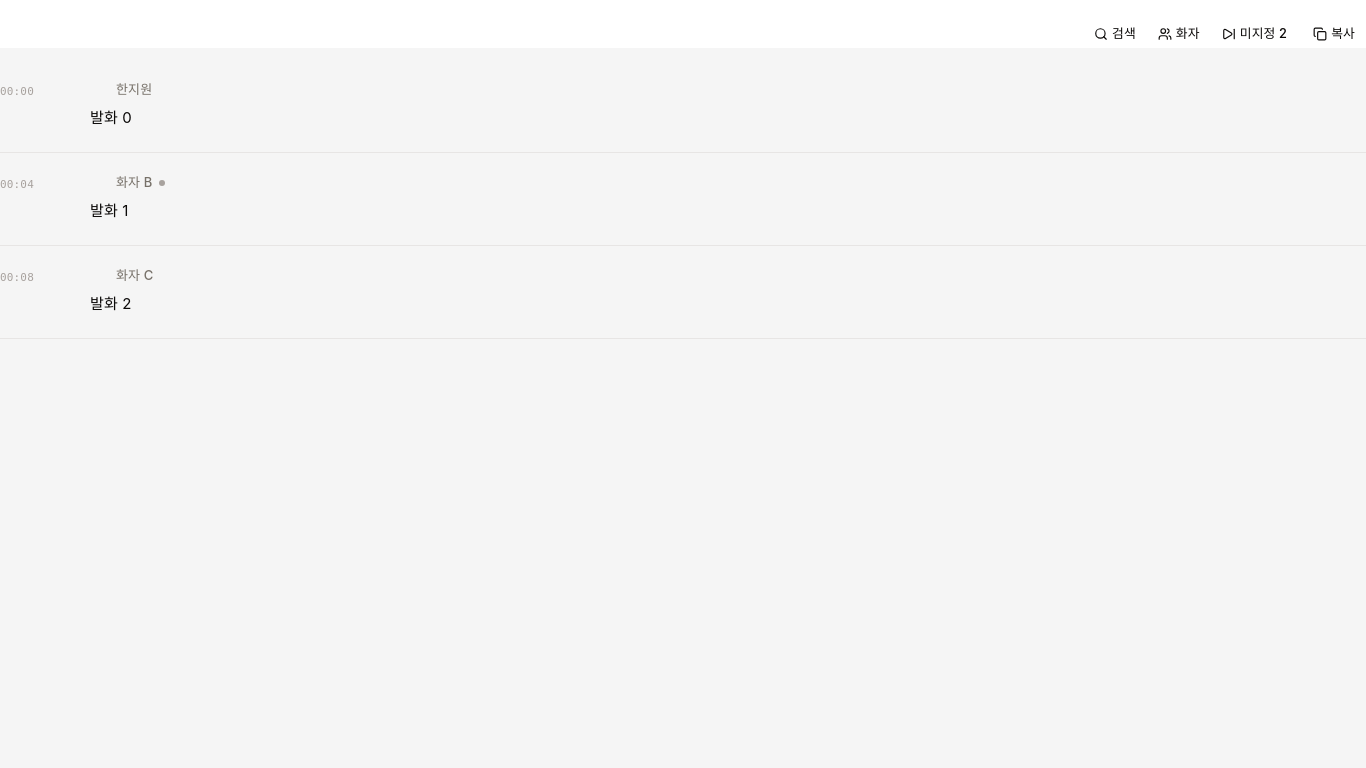
Test: NoteArchive › 한 마디도 안 한 참여자도 패널에 선다
This screenshot has width=1366, height=768.
Click the button "화자": click(1181, 34) [1151,20,1211,48]
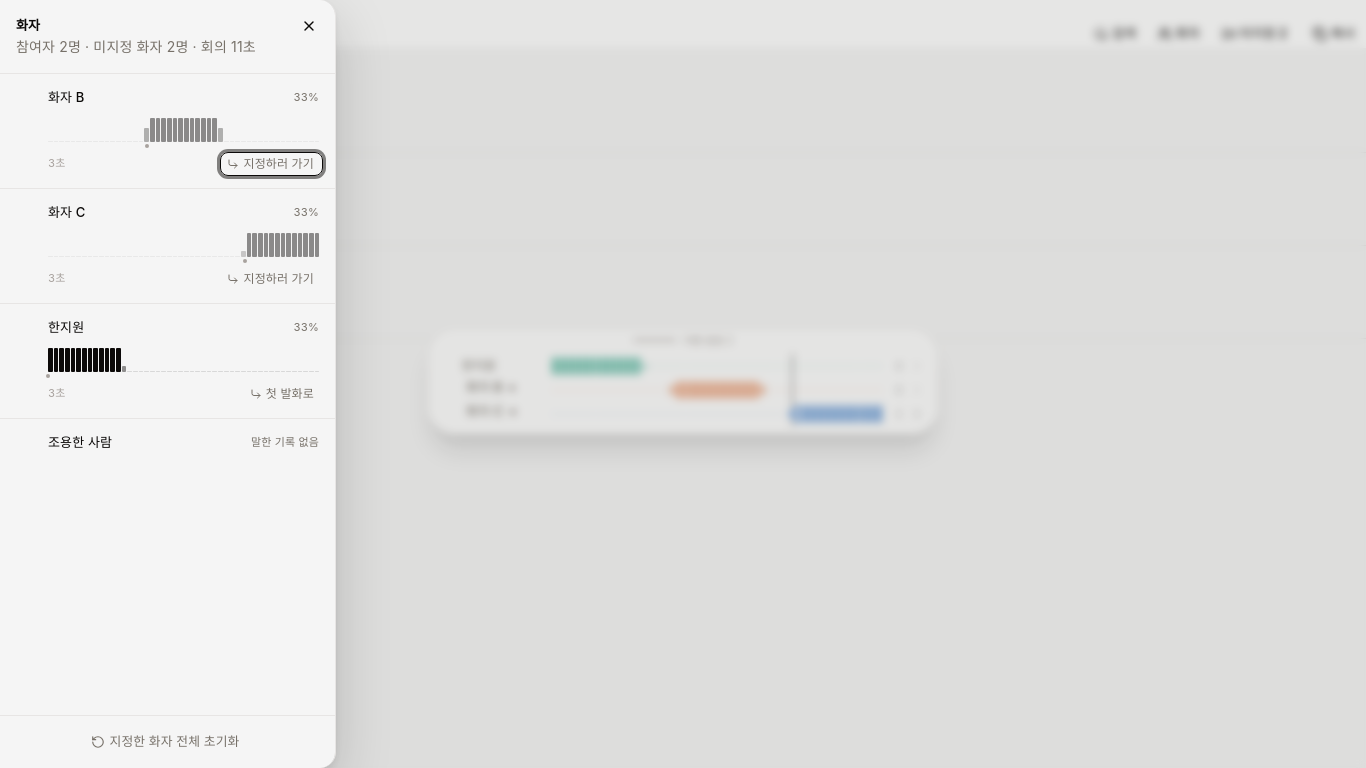
Now the text "조용한 사람" is shown, box [48,433,112,452]
Now the text "말한 기록 없음" is shown, box [251,435,319,450]
